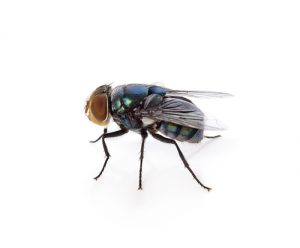fly: (80, 80, 235, 196)
